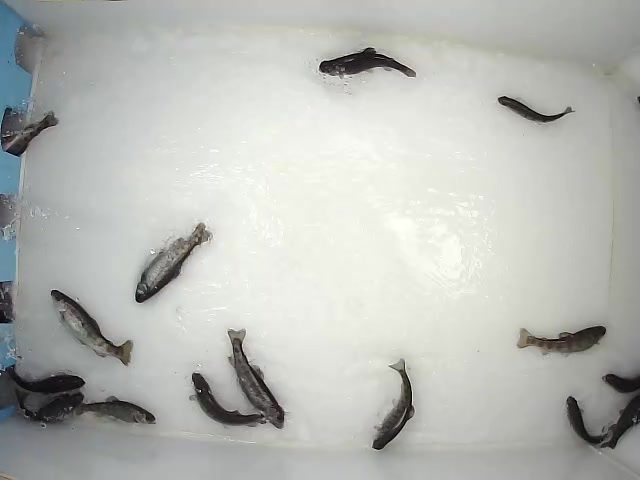fish: (131, 220, 213, 303), (48, 289, 133, 366), (226, 329, 285, 430), (187, 369, 272, 431), (370, 356, 415, 451), (316, 47, 421, 80), (514, 324, 606, 358), (11, 388, 84, 428), (1, 108, 60, 155), (74, 395, 158, 427), (498, 95, 577, 126), (564, 393, 611, 445), (3, 362, 86, 391), (606, 393, 640, 447), (603, 372, 640, 393)
